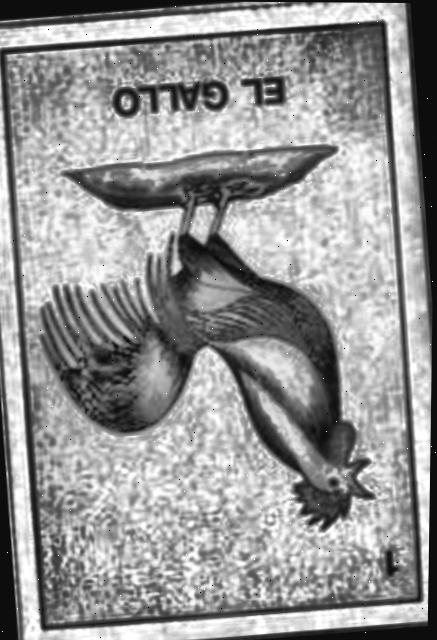El Gallo: (0, 21, 431, 628)
